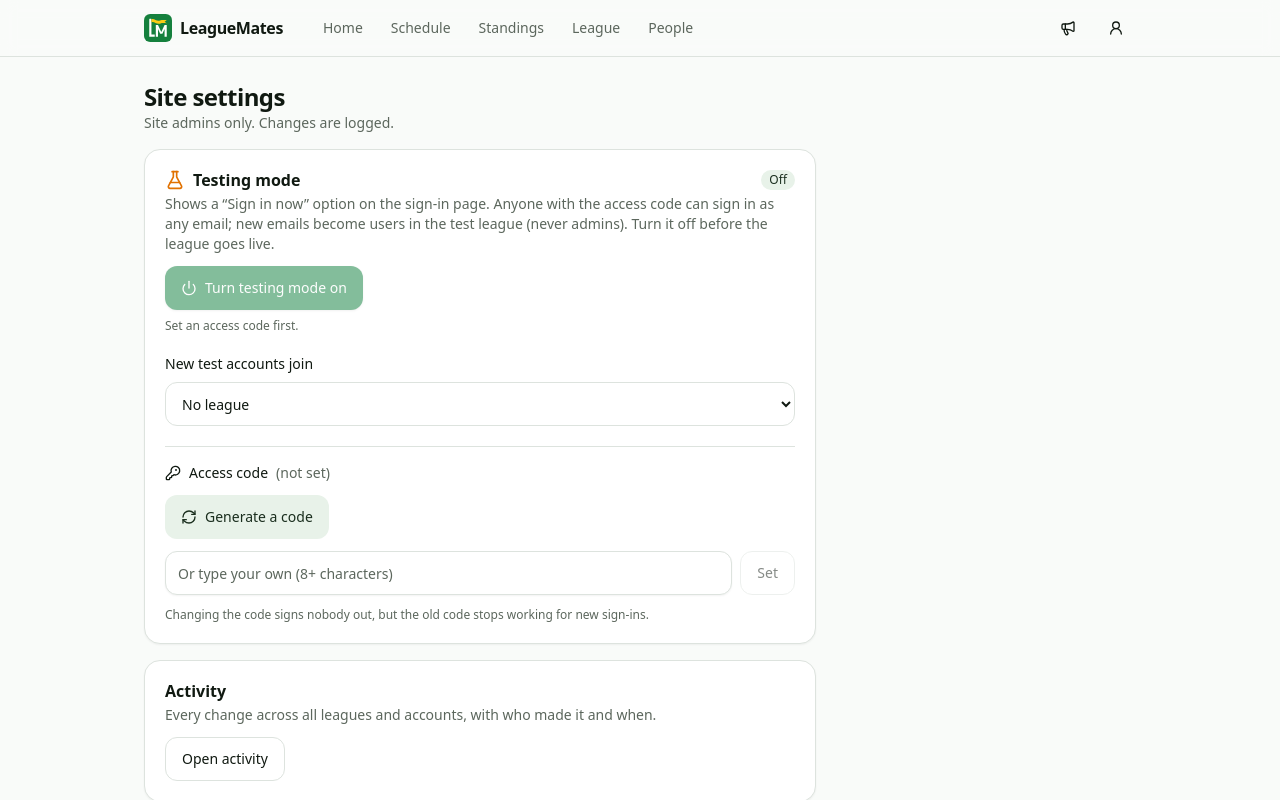
site settings › generates a code, shows it once, then turns testing mode on
expect the button "Turn testing mode on" is disabled: met, box x1=165 y1=266 x2=363 y2=310
Click the button "Generate a code" at (247, 517), box x1=165 y1=495 x2=329 y2=539
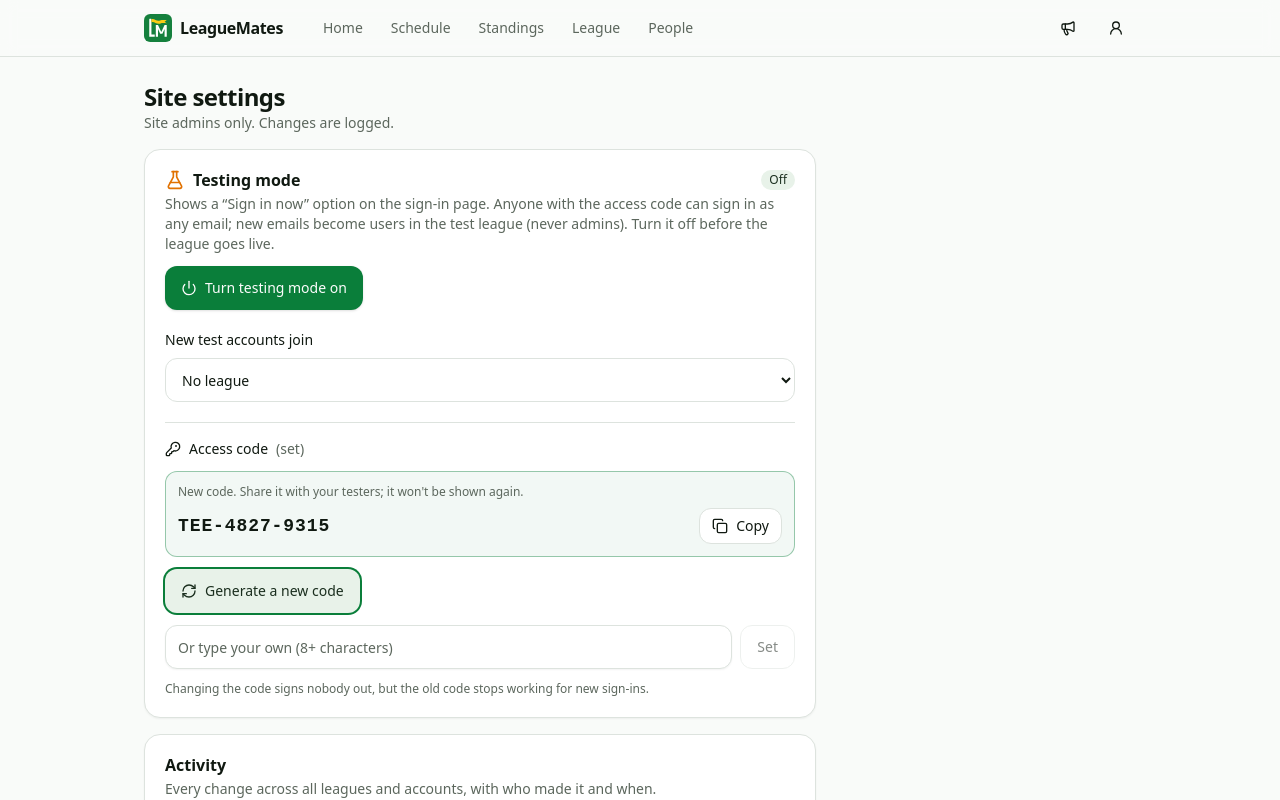
expect the text "TEE-4827-9315" is shown: met, box x1=178 y1=516 x2=330 y2=536
Click the button "Turn testing mode on" at (264, 288), box x1=165 y1=266 x2=363 y2=310
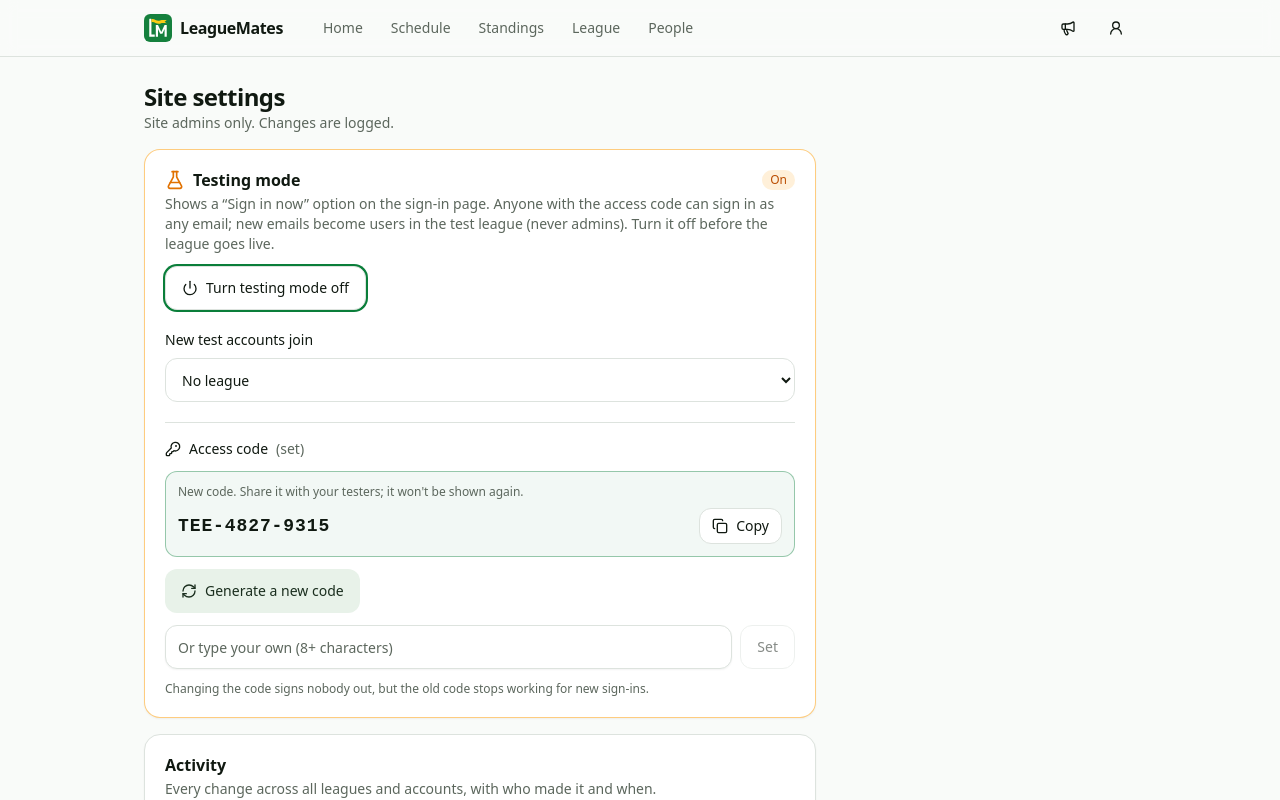
expect the button "Turn testing mode off" is shown: met, box x1=165 y1=266 x2=366 y2=310
